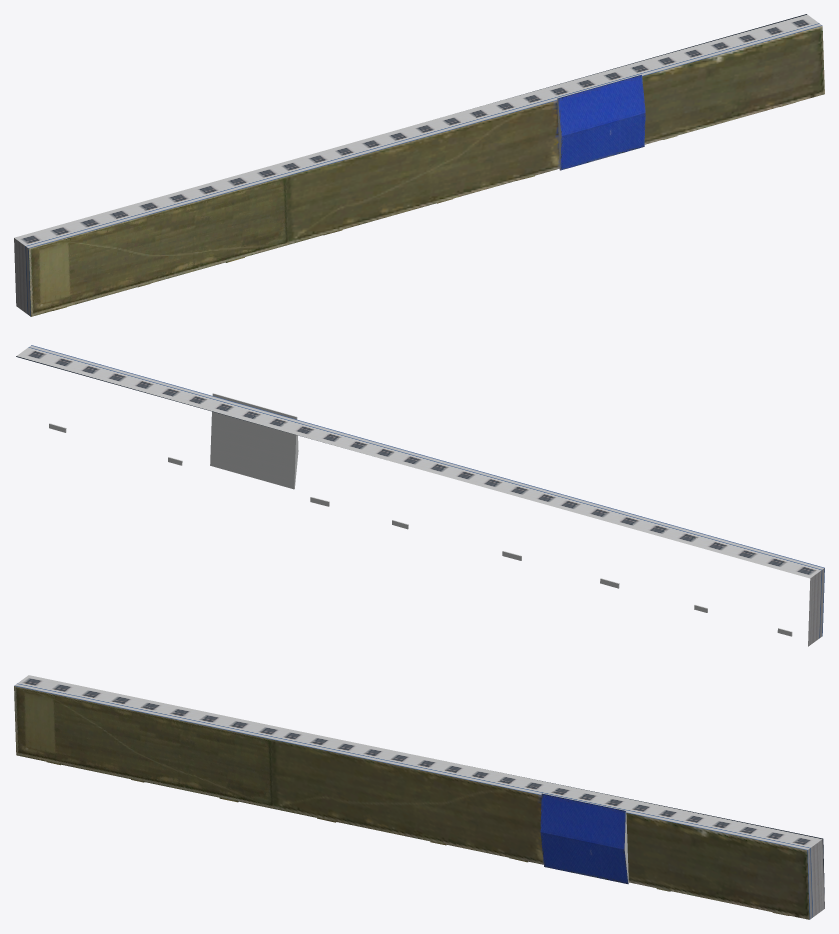
3 views of the same model, one above another, from view 1: azimuth 30°, elevation 25°; view 2: azimuth 150°, elevation 25°; view 3: azimuth 330°, elevation 25° (orthographic).
Parts seen in each view (by area): view 1: Group_MatrixTransform_i94b006_Geometry_14, Group_MatrixTransform_i94b006_Geometry_13, Group_MatrixTransform_i94b006_Geometry_1, Group_MatrixTransform_i94b006_Geometry_12, Group_MatrixTransform_i94b006_Geometry_2; view 2: Group_MatrixTransform_i94b006_Geometry_1, Group_MatrixTransform_i94b006_Geometry_10, Group_MatrixTransform_i94b006_Geometry_2; view 3: Group_MatrixTransform_i94b006_Geometry_14, Group_MatrixTransform_i94b006_Geometry_13, Group_MatrixTransform_i94b006_Geometry_1, Group_MatrixTransform_i94b006_Geometry_12, Group_MatrixTransform_i94b006_Geometry_2.
Boxes of the visible parts, x1,y1,x2,y2 form: Group_MatrixTransform_i94b006_Geometry_14: (286, 26, 824, 244); Group_MatrixTransform_i94b006_Geometry_13: (28, 176, 288, 316); Group_MatrixTransform_i94b006_Geometry_1: (14, 14, 822, 248); Group_MatrixTransform_i94b006_Geometry_12: (557, 74, 645, 170); Group_MatrixTransform_i94b006_Geometry_2: (14, 238, 30, 316); Group_MatrixTransform_i94b006_Geometry_1: (16, 345, 824, 578); Group_MatrixTransform_i94b006_Geometry_10: (49, 393, 792, 636); Group_MatrixTransform_i94b006_Geometry_2: (808, 568, 824, 646); Group_MatrixTransform_i94b006_Geometry_14: (271, 739, 809, 919); Group_MatrixTransform_i94b006_Geometry_13: (14, 686, 273, 808); Group_MatrixTransform_i94b006_Geometry_1: (14, 675, 822, 850); Group_MatrixTransform_i94b006_Geometry_12: (540, 793, 628, 883); Group_MatrixTransform_i94b006_Geometry_2: (807, 839, 824, 919).
Bounding box in the file's own units: 149 × 18.2 × 6.17.
15 materials, 15 textured.
